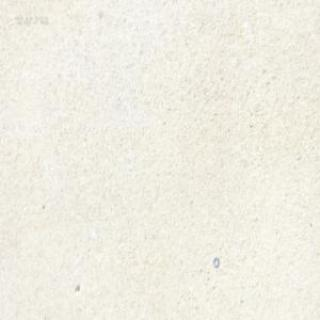Washertrack_idkeyframe: (212, 255, 218, 266)
